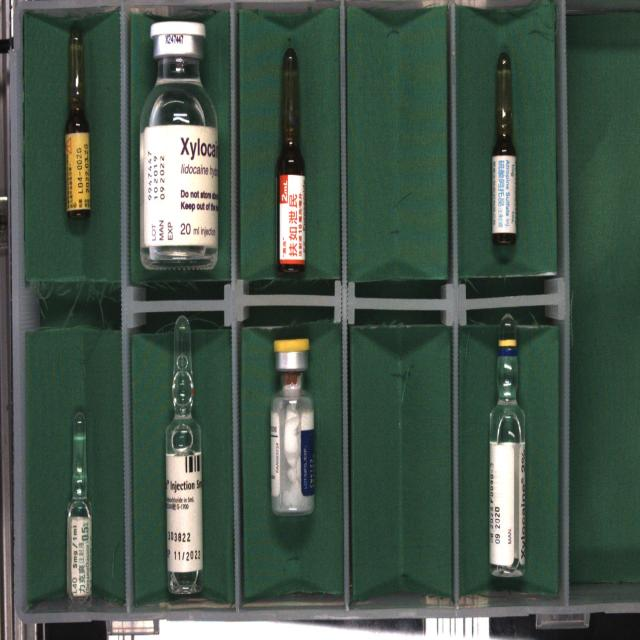Vials: (140, 21, 219, 269), (271, 338, 314, 514)
